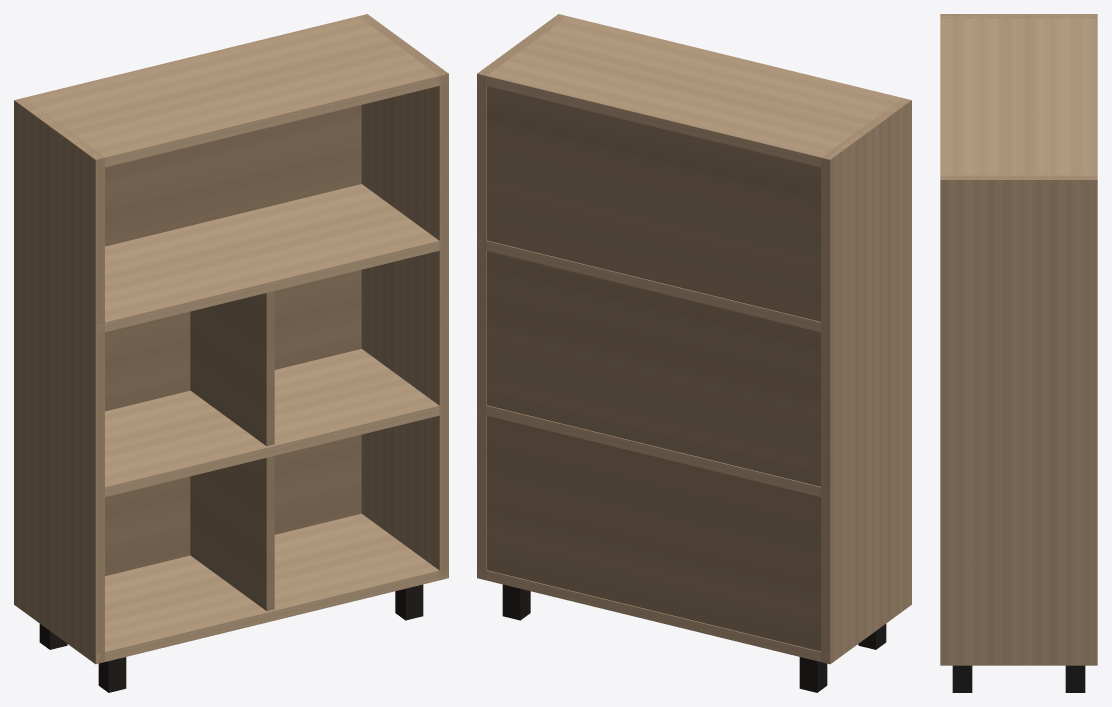
The picture shows the model from 3 angles, left to right: view 1: azimuth 30°, elevation 25°; view 2: azimuth 150°, elevation 25°; view 3: azimuth 270°, elevation 25°; orthographic projection. The views are drawn at different scales.
Visible parts, largest first — view 1: Carcass; view 2: Carcass; view 3: Carcass.
Boxes of the visible parts, x1,y1,x2,y2 form: Carcass: [14, 14, 448, 692]; Carcass: [477, 14, 911, 692]; Carcass: [940, 14, 1097, 692].
Bounding box in the file's own units: 0.75 × 1.1 × 0.3.
Materials: 1 (1 with a texture image).
